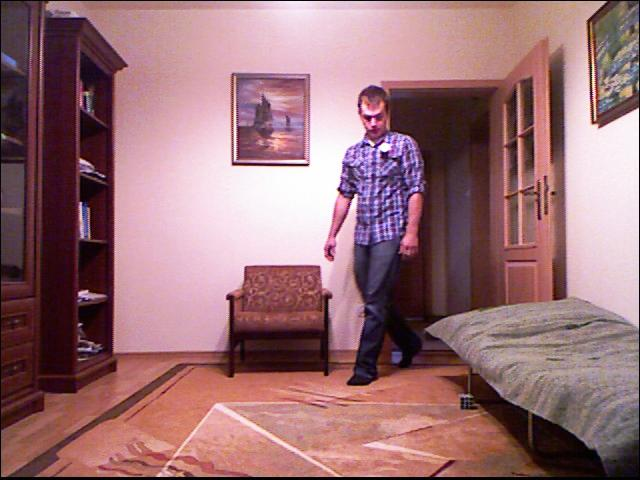walking: (326, 71, 436, 391)
